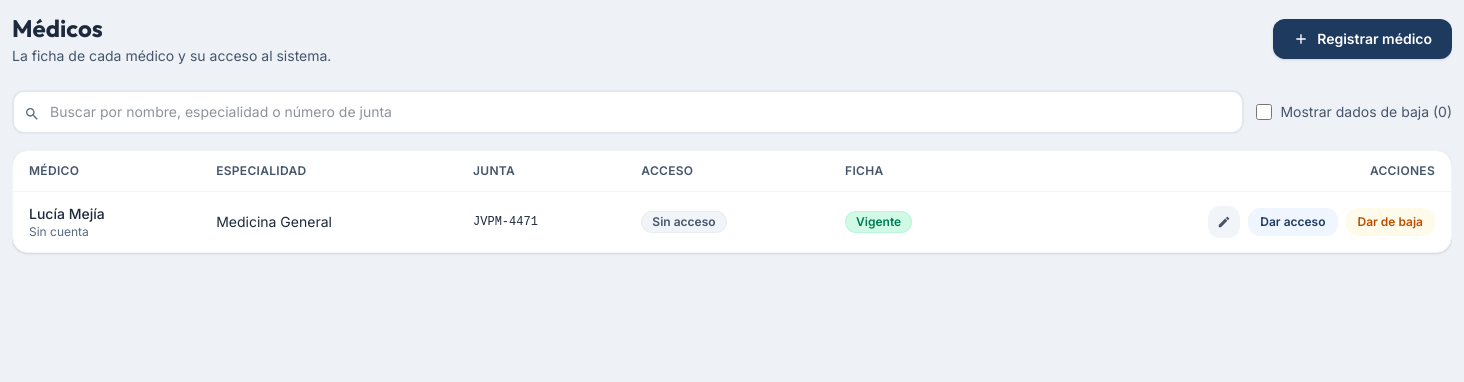
Scenario: médicos · la ficha › dar de baja manda false y avisa que ya no atiende
Check: the text "Lucía Mejía" is shown, box [29,205,105,222]
Click the button with aria-label "dar de baja a lucía mejía".
click(1390, 222)  # box [1346,208,1435,236]
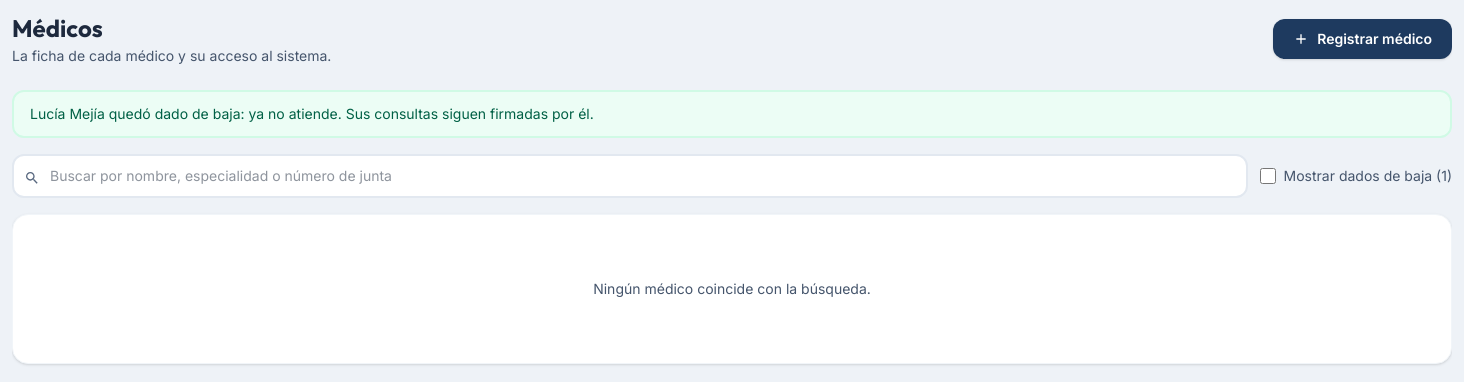
Check: the message shows "ya no atiende", box [30,105,594,122]
